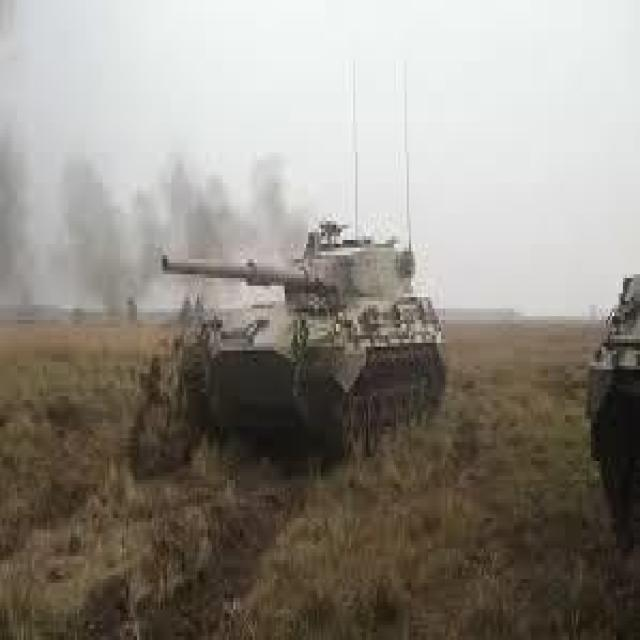Tanks: (144, 200, 452, 470), (582, 270, 638, 522)
